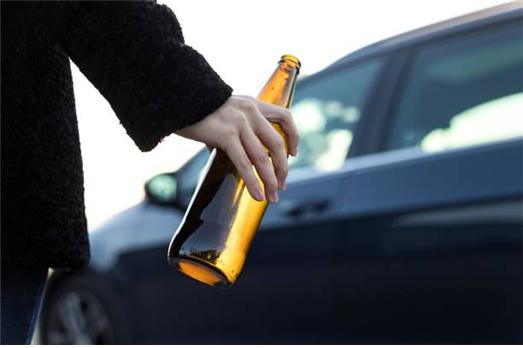alcohol: (167, 54, 304, 287)
